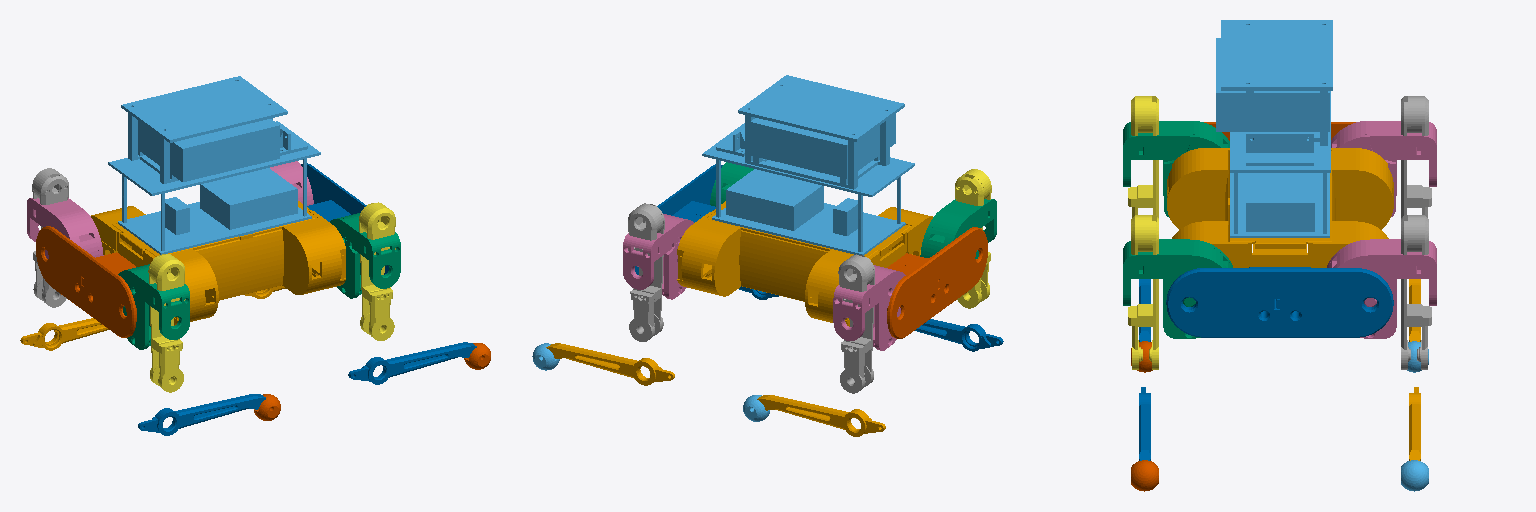
The robot description file, URDF, robot "quadruped":
<?xml version="1.0" ?>
<!-- =================================================================================== -->
<!-- |    This document was autogenerated by xacro from quadruped.urdf.xacro           | -->
<!-- |    EDITING THIS FILE BY HAND IS NOT RECOMMENDED                                 | -->
<!-- =================================================================================== -->
<robot name="quadruped">
  <material name="aluminum">
    <color rgba="0.5 0.5 0.5 1"/>
  </material>
  <material name="plastic">
    <color rgba="0.1 0.1 0.1 1"/>
  </material>
  <link name="base_link">
    <visual>
      <origin rpy="0 0 0" xyz="0 0 0"/>
      <geometry>
        <mesh filename="package://test_config/meshes/base.stl" scale="0.001 0.001 0.001"/>
      </geometry>
    </visual>
    <collision>
      <origin rpy="0 0 0" xyz="0 0 0"/>
      <geometry>
        <mesh filename="package://test_config/meshes/base.stl" scale="0.001 0.001 0.001"/>
      </geometry>
    </collision>
  </link>
  <link name="tower_link">
    <visual>
      <origin rpy="0 0 0" xyz="0 0 0"/>
      <geometry>
        <mesh filename="package://test_config/meshes/tower.stl" scale="0.001 0.001 0.001"/>
      </geometry>
    </visual>
    <collision>
      <origin rpy="0 0 0" xyz="0 0 0"/>
      <geometry>
        <mesh filename="package://test_config/meshes/tower.stl" scale="0.001 0.001 0.001"/>
      </geometry>
    </collision>
  </link>
  <!-- camera body, with origin at bottom screw mount -->
  <joint name="camera_joint" type="fixed">
    <origin rpy="0 0 0" xyz="0.075 0 0.099"/>
    <parent link="base_link"/>
    <child link="camera_bottom_screw_frame"/>
  </joint>
  <link name="camera_bottom_screw_frame"/>
  <joint name="camera_link_joint" type="fixed">
    <origin rpy="0 0 0" xyz="0.010600000000000002 0.0175 0.0125"/>
    <parent link="camera_bottom_screw_frame"/>
    <child link="camera_link"/>
  </joint>
  <link name="camera_link">
    <visual>
      <!-- the mesh origin is at front plate in between the two infrared camera axes -->
      <origin rpy="1.5707963267948966 0 1.5707963267948966" xyz="0.0043 -0.0175 0"/>
      <geometry>
        <mesh filename="package://realsense2_description/meshes/d435.dae"/>
      </geometry>
    </visual>
    <collision>
      <origin rpy="0 0 0" xyz="0 -0.0175 0"/>
      <geometry>
        <box size="0.02505 0.09 0.025"/>
      </geometry>
    </collision>
    <inertial>
      <!-- The following are not reliable values, and should not be used for modeling -->
      <mass value="0.072"/>
      <origin xyz="0 0 0"/>
      <inertia ixx="0.003881243" ixy="0.0" ixz="0.0" iyy="0.000498940" iyz="0.0" izz="0.003879257"/>
    </inertial>
  </link>
  <link name="f_bumper_link">
    <visual>
      <origin rpy="0 0 0" xyz="0 0 0"/>
      <geometry>
        <mesh filename="package://test_config/meshes/bumper.stl" scale="0.001 0.001 0.001"/>
      </geometry>
    </visual>
    <collision>
      <origin rpy="0 0 0" xyz="0 0 0"/>
      <geometry>
        <mesh filename="package://test_config/meshes/bumper.stl" scale="0.001 0.001 0.001"/>
      </geometry>
    </collision>
  </link>
  <link name="h_bumper_link">
    <visual>
      <origin rpy="0 0 3.1415" xyz="0 0 0"/>
      <geometry>
        <mesh filename="package://test_config/meshes/bumper.stl" scale="0.001 0.001 0.001"/>
      </geometry>
    </visual>
    <collision>
      <origin rpy="0 0 3.1415" xyz="0 0 0"/>
      <geometry>
        <mesh filename="package://test_config/meshes/bumper.stl" scale="0.001 0.001 0.001"/>
      </geometry>
    </collision>
  </link>
  <link name="lf_hip_link">
    <visual>
      <origin rpy="0 0 0" xyz="0 0 0"/>
      <geometry>
        <mesh filename="package://test_config/meshes/hip.stl" scale="0.001 0.001 0.001"/>
      </geometry>
    </visual>
    <collision>
      <origin rpy="0 0 0" xyz="0 0 0"/>
      <geometry>
        <mesh filename="package://test_config/meshes/hip.stl" scale="0.001 0.001 0.001"/>
      </geometry>
    </collision>
  </link>
  <link name="lf_upper_leg_link">
    <visual>
      <origin rpy="1.5707 0 3.1415" xyz="0 0 0"/>
      <geometry>
        <mesh filename="package://test_config/meshes/upper-leg.stl" scale="0.001 0.001 0.001"/>
      </geometry>
    </visual>
    <collision>
      <origin rpy="1.5707 0 3.1415" xyz="0 0 0"/>
      <geometry>
        <mesh filename="package://test_config/meshes/upper-leg.stl" scale="0.001 0.001 0.001"/>
      </geometry>
    </collision>
  </link>
  <link name="lf_lower_leg_link">
    <visual>
      <origin rpy="1.5707 0 0" xyz="0 0 0"/>
      <geometry>
        <mesh filename="package://test_config/meshes/lower-leg.stl" scale="0.001 0.001 0.001"/>
      </geometry>
    </visual>
    <collision>
      <origin rpy="1.5707 0 0" xyz="0 0 0"/>
      <geometry>
        <mesh filename="package://test_config/meshes/lower-leg.stl" scale="0.001 0.001 0.001"/>
      </geometry>
    </collision>
  </link>
  <link name="lf_foot_link">
    <visual>
      <origin rpy="1.5707 0 0" xyz="0 0 0"/>
      <geometry>
        <mesh filename="package://test_config/meshes/foot.stl" scale="0.001 0.001 0.001"/>
      </geometry>
    </visual>
    <collision>
      <origin rpy="1.5707 0 0" xyz="0 0 0"/>
      <geometry>
        <mesh filename="package://test_config/meshes/foot.stl" scale="0.001 0.001 0.001"/>
      </geometry>
    </collision>
  </link>
  <link name="rf_hip_link">
    <visual>
      <origin rpy="0 0 0" xyz="0 0 0"/>
      <geometry>
        <mesh filename="package://test_config/meshes/hip.stl" scale="0.001 -0.001 0.001"/>
      </geometry>
    </visual>
    <collision>
      <origin rpy="0 0 0" xyz="0 0 0"/>
      <geometry>
        <mesh filename="package://test_config/meshes/hip.stl" scale="0.001 -0.001 0.001"/>
      </geometry>
    </collision>
  </link>
  <link name="rf_upper_leg_link">
    <visual>
      <origin rpy="4.7123 0 3.1415" xyz="0 0 0"/>
      <geometry>
        <mesh filename="package://test_config/meshes/upper-leg.stl" scale="0.001 -0.001 0.001"/>
      </geometry>
    </visual>
    <collision>
      <origin rpy="4.7123 0 3.1415" xyz="0 0 0"/>
      <geometry>
        <mesh filename="package://test_config/meshes/upper-leg.stl" scale="0.001 -0.001 0.001"/>
      </geometry>
    </collision>
  </link>
  <link name="rf_lower_leg_link">
    <visual>
      <origin rpy="4.7123 0 0" xyz="0 0 0"/>
      <geometry>
        <mesh filename="package://test_config/meshes/lower-leg.stl" scale="0.001 -0.001 0.001"/>
      </geometry>
    </visual>
    <collision>
      <origin rpy="4.7123 0 0" xyz="0 0 0"/>
      <geometry>
        <mesh filename="package://test_config/meshes/lower-leg.stl" scale="0.001 -0.001 0.001"/>
      </geometry>
    </collision>
  </link>
  <link name="rf_foot_link">
    <visual>
      <origin rpy="4.7123 0 0" xyz="0 0 0"/>
      <geometry>
        <mesh filename="package://test_config/meshes/foot.stl" scale="0.001 -0.001 0.001"/>
      </geometry>
    </visual>
    <collision>
      <origin rpy="4.7123 0 0" xyz="0 0 0"/>
      <geometry>
        <mesh filename="package://test_config/meshes/foot.stl" scale="0.001 -0.001 0.001"/>
      </geometry>
    </collision>
  </link>
  <link name="lh_hip_link">
    <visual>
      <origin rpy="0 0 0" xyz="0 0 0"/>
      <geometry>
        <mesh filename="package://test_config/meshes/hip.stl" scale="-0.001 0.001 0.001"/>
      </geometry>
    </visual>
    <collision>
      <origin rpy="0 0 0" xyz="0 0 0"/>
      <geometry>
        <mesh filename="package://test_config/meshes/hip.stl" scale="-0.001 0.001 0.001"/>
      </geometry>
    </collision>
  </link>
  <link name="lh_upper_leg_link">
    <visual>
      <origin rpy="1.5707 0 3.1415" xyz="0 0 0"/>
      <geometry>
        <mesh filename="package://test_config/meshes/upper-leg.stl" scale="0.001 0.001 0.001"/>
      </geometry>
    </visual>
    <collision>
      <origin rpy="1.5707 0 3.1415" xyz="0 0 0"/>
      <geometry>
        <mesh filename="package://test_config/meshes/upper-leg.stl" scale="0.001 0.001 0.001"/>
      </geometry>
    </collision>
  </link>
  <link name="lh_lower_leg_link">
    <visual>
      <origin rpy="1.5707 0 0" xyz="0 0 0"/>
      <geometry>
        <mesh filename="package://test_config/meshes/lower-leg.stl" scale="0.001 0.001 0.001"/>
      </geometry>
    </visual>
    <collision>
      <origin rpy="1.5707 0 0" xyz="0 0 0"/>
      <geometry>
        <mesh filename="package://test_config/meshes/lower-leg.stl" scale="0.001 0.001 0.001"/>
      </geometry>
    </collision>
  </link>
  <link name="lh_foot_link">
    <visual>
      <origin rpy="1.5707 0 0" xyz="0 0 0"/>
      <geometry>
        <mesh filename="package://test_config/meshes/foot.stl" scale="0.001 0.001 0.001"/>
      </geometry>
    </visual>
    <collision>
      <origin rpy="1.5707 0 0" xyz="0 0 0"/>
      <geometry>
        <mesh filename="package://test_config/meshes/foot.stl" scale="0.001 0.001 0.001"/>
      </geometry>
    </collision>
  </link>
  <link name="rh_hip_link">
    <visual>
      <origin rpy="0 0 0" xyz="0 0 0"/>
      <geometry>
        <mesh filename="package://test_config/meshes/hip.stl" scale="-0.001 -0.001 0.001"/>
      </geometry>
    </visual>
    <collision>
      <origin rpy="0 0 0" xyz="0 0 0"/>
      <geometry>
        <mesh filename="package://test_config/meshes/hip.stl" scale="-0.001 -0.001 0.001"/>
      </geometry>
    </collision>
  </link>
  <link name="rh_upper_leg_link">
    <visual>
      <origin rpy="4.7123 0 3.1415" xyz="0 0 0"/>
      <geometry>
        <mesh filename="package://test_config/meshes/upper-leg.stl" scale="0.001 -0.001 0.001"/>
      </geometry>
    </visual>
    <collision>
      <origin rpy="4.7123 0 3.1415" xyz="0 0 0"/>
      <geometry>
        <mesh filename="package://test_config/meshes/upper-leg.stl" scale="0.001 -0.001 0.001"/>
      </geometry>
    </collision>
  </link>
  <link name="rh_lower_leg_link">
    <visual>
      <origin rpy="4.7123 0 0" xyz="0 0 0"/>
      <geometry>
        <mesh filename="package://test_config/meshes/lower-leg.stl" scale="0.001 -0.001 0.001"/>
      </geometry>
    </visual>
    <collision>
      <origin rpy="4.7123 0 0" xyz="0 0 0"/>
      <geometry>
        <mesh filename="package://test_config/meshes/lower-leg.stl" scale="0.001 -0.001 0.001"/>
      </geometry>
    </collision>
  </link>
  <link name="rh_foot_link">
    <visual>
      <origin rpy="4.7123 0 0" xyz="0 0 0"/>
      <geometry>
        <mesh filename="package://test_config/meshes/foot.stl" scale="0.001 -0.001 0.001"/>
      </geometry>
    </visual>
    <collision>
      <origin rpy="4.7123 0 0" xyz="0 0 0"/>
      <geometry>
        <mesh filename="package://test_config/meshes/foot.stl" scale="0.001 -0.001 0.001"/>
      </geometry>
    </collision>
  </link>
  <joint name="tower_joint" type="fixed">
    <origin rpy="0 0 0" xyz="0.0056 0.0068 0.10042"/>
    <parent link="base_link"/>
    <child link="tower_link"/>
  </joint>
  <joint name="f_bumper_joint" type="fixed">
    <origin rpy="0 0 0" xyz="0.1203 0.0000 -0.0042"/>
    <parent link="base_link"/>
    <child link="f_bumper_link"/>
  </joint>
  <joint name="h_bumper_joint" type="fixed">
    <origin rpy="0 0 0" xyz="-0.1199 0.0000 -0.0042"/>
    <parent link="base_link"/>
    <child link="h_bumper_link"/>
  </joint>
  <joint name="lf_hip_joint" type="revolute">
    <origin rpy="0 0 0" xyz="0.1105 0.0716 0.0009"/>
    <parent link="base_link"/>
    <child link="lf_hip_link"/>
    <axis xyz="1 0 0"/>
    <limit effort="25" lower="-0.8726" upper="0.8726" velocity="1.5"/>
  </joint>
  <joint name="lf_upper_leg_joint" type="revolute">
    <origin rpy="0 0 0" xyz="0.0000 0.0355 0.0041"/>
    <parent link="lf_hip_link"/>
    <child link="lf_upper_leg_link"/>
    <axis xyz="0 1 0"/>
    <limit effort="25" lower="-1.0472" upper="1.0472" velocity="1.5"/>
  </joint>
  <joint name="lf_lower_leg_joint" type="revolute">
    <origin rpy="0 0 0" xyz="0.0002 0.0003 -0.1078"/>
    <parent link="lf_upper_leg_link"/>
    <child link="lf_lower_leg_link"/>
    <axis xyz="0 1 0"/>
    <limit effort="25" lower="-2.0944" upper="-1.0472" velocity="1.5"/>
  </joint>
  <joint name="lf_foot_joint" type="fixed">
    <origin rpy="0 0 0" xyz="-0.0093 -0.0003 -0.1060"/>
    <parent link="lf_lower_leg_link"/>
    <child link="lf_foot_link"/>
  </joint>
  <joint name="rf_hip_joint" type="revolute">
    <origin rpy="0 0 0" xyz="0.1105 -0.0716 0.0009"/>
    <parent link="base_link"/>
    <child link="rf_hip_link"/>
    <axis xyz="1 0 0"/>
    <limit effort="25" lower="-0.8726" upper="0.8726" velocity="1.5"/>
  </joint>
  <joint name="rf_upper_leg_joint" type="revolute">
    <origin rpy="0 0 0" xyz="0.0000 -0.0355 0.0041"/>
    <parent link="rf_hip_link"/>
    <child link="rf_upper_leg_link"/>
    <axis xyz="0 1 0"/>
    <limit effort="25" lower="-1.0472" upper="1.0472" velocity="1.5"/>
  </joint>
  <joint name="rf_lower_leg_joint" type="revolute">
    <origin rpy="0 0 0" xyz="0.0002 -0.0003 -0.1078"/>
    <parent link="rf_upper_leg_link"/>
    <child link="rf_lower_leg_link"/>
    <axis xyz="0 1 0"/>
    <limit effort="25" lower="-2.0944" upper="-1.0472" velocity="1.5"/>
  </joint>
  <joint name="rf_foot_joint" type="fixed">
    <origin rpy="0 0 0" xyz="-0.0093 -0.0003 -0.1060"/>
    <parent link="rf_lower_leg_link"/>
    <child link="rf_foot_link"/>
  </joint>
  <joint name="lh_hip_joint" type="revolute">
    <origin rpy="0 0 0" xyz="-0.1131 0.0716 0.0009"/>
    <parent link="base_link"/>
    <child link="lh_hip_link"/>
    <axis xyz="1 0 0"/>
    <limit effort="25" lower="-0.8726" upper="0.8726" velocity="1.5"/>
  </joint>
  <joint name="lh_upper_leg_joint" type="revolute">
    <origin rpy="0 0 0" xyz="0.0000 0.0355 0.0041"/>
    <parent link="lh_hip_link"/>
    <child link="lh_upper_leg_link"/>
    <axis xyz="0 1 0"/>
    <limit effort="25" lower="-1.0472" upper="1.0472" velocity="1.5"/>
  </joint>
  <joint name="lh_lower_leg_joint" type="revolute">
    <origin rpy="0 0 0" xyz="0.0002 0.0003 -0.1078"/>
    <parent link="lh_upper_leg_link"/>
    <child link="lh_lower_leg_link"/>
    <axis xyz="0 1 0"/>
    <limit effort="25" lower="-2.0944" upper="-1.0472" velocity="1.5"/>
  </joint>
  <joint name="lh_foot_joint" type="fixed">
    <origin rpy="0 0 0" xyz="-0.0093 -0.0003 -0.1060"/>
    <parent link="lh_lower_leg_link"/>
    <child link="lh_foot_link"/>
  </joint>
  <joint name="rh_hip_joint" type="revolute">
    <origin rpy="0 0 0" xyz="-0.1131 -0.0716 0.0009"/>
    <parent link="base_link"/>
    <child link="rh_hip_link"/>
    <axis xyz="1 0 0"/>
    <limit effort="25" lower="-0.8726" upper="0.8726" velocity="1.5"/>
  </joint>
  <joint name="rh_upper_leg_joint" type="revolute">
    <origin rpy="0 0 0" xyz="0.0000 -0.0355 0.0041"/>
    <parent link="rh_hip_link"/>
    <child link="rh_upper_leg_link"/>
    <axis xyz="0 1 0"/>
    <limit effort="25" lower="-1.0472" upper="1.0472" velocity="1.5"/>
  </joint>
  <joint name="rh_lower_leg_joint" type="revolute">
    <origin rpy="0 0 0" xyz="0.0002 -0.0003 -0.1078"/>
    <parent link="rh_upper_leg_link"/>
    <child link="rh_lower_leg_link"/>
    <axis xyz="0 1 0"/>
    <limit effort="25" lower="-2.0944" upper="-1.0472" velocity="1.5"/>
  </joint>
  <joint name="rh_foot_joint" type="fixed">
    <origin rpy="0 0 0" xyz="-0.0093 -0.0003 -0.1060"/>
    <parent link="rh_lower_leg_link"/>
    <child link="rh_foot_link"/>
  </joint>
</robot>

--- Render facts (derived) ---
Views: 3 orthographic renders of the robot side by side, from view 1: azimuth 30°, elevation 25°; view 2: azimuth 150°, elevation 25°; view 3: azimuth 270°, elevation 25°.
Robot: quadruped — 22 links, 21 joints (12 revolute, 9 fixed); root link base_link; default pose: all joints at 0 but 4 set to mid-range because 0 is outside their limits (lf_lower_leg_joint = -1.57, rf_lower_leg_joint = -1.57, lh_lower_leg_joint = -1.57, rh_lower_leg_joint = -1.57).
Links seen in each view (by area): view 1: tower_link, base_link, h_bumper_link, rh_hip_link, rf_hip_link, rf_upper_leg_link, rh_upper_leg_link, lh_hip_link, rh_lower_leg_link, rf_lower_leg_link, f_bumper_link, lh_upper_leg_link (+2 smaller); view 2: tower_link, base_link, h_bumper_link, lh_hip_link, lf_hip_link, lf_upper_leg_link, lh_upper_leg_link, rh_hip_link, lf_lower_leg_link, lh_lower_leg_link, f_bumper_link, rh_upper_leg_link (+2 smaller); view 3: tower_link, f_bumper_link, base_link, rf_hip_link, lf_hip_link, rh_hip_link, lh_hip_link, lf_upper_leg_link, rf_upper_leg_link, lh_upper_leg_link, rh_upper_leg_link, rf_lower_leg_link (+3 smaller).
Boxes of the visible links, box(x1,y1,x2,y2) form: tower_link: box(108, 76, 320, 254); base_link: box(91, 201, 345, 325); h_bumper_link: box(36, 226, 136, 337); rh_hip_link: box(118, 264, 189, 349); rf_hip_link: box(330, 213, 400, 298); rf_upper_leg_link: box(359, 202, 395, 340); rh_upper_leg_link: box(148, 254, 185, 392); lh_hip_link: box(27, 198, 103, 258); rh_lower_leg_link: box(138, 394, 265, 435); rf_lower_leg_link: box(348, 342, 476, 384); f_bumper_link: box(301, 163, 388, 274); lh_upper_leg_link: box(32, 168, 68, 307); tower_link: box(702, 75, 914, 255); base_link: box(677, 201, 932, 326); h_bumper_link: box(887, 227, 987, 338); lh_hip_link: box(833, 265, 905, 350); lf_hip_link: box(623, 214, 693, 299); lf_upper_leg_link: box(628, 203, 664, 341); lh_upper_leg_link: box(838, 254, 874, 393); rh_hip_link: box(920, 199, 996, 258); lf_lower_leg_link: box(546, 343, 674, 385); lh_lower_leg_link: box(757, 395, 885, 436); f_bumper_link: box(635, 164, 722, 274); rh_upper_leg_link: box(955, 169, 991, 308); tower_link: box(1216, 20, 1332, 237); f_bumper_link: box(1166, 267, 1393, 337); base_link: box(1167, 148, 1393, 267); rf_hip_link: box(1123, 239, 1232, 338); lf_hip_link: box(1327, 239, 1436, 338); rh_hip_link: box(1123, 121, 1229, 217); lh_hip_link: box(1331, 121, 1436, 216); lf_upper_leg_link: box(1401, 215, 1431, 369); rf_upper_leg_link: box(1128, 215, 1158, 369); lh_upper_leg_link: box(1401, 96, 1431, 217); rh_upper_leg_link: box(1128, 96, 1158, 217); rf_lower_leg_link: box(1139, 387, 1150, 460).
Bounding box of the posed robot: 0.3729 × 0.2493 × 0.2753 m (x, y, z).
Meshes: 8 distinct files referenced, 20 mesh visuals loaded (7 binary STL); not drawn: 1 (reference not matched to a file when rendering).